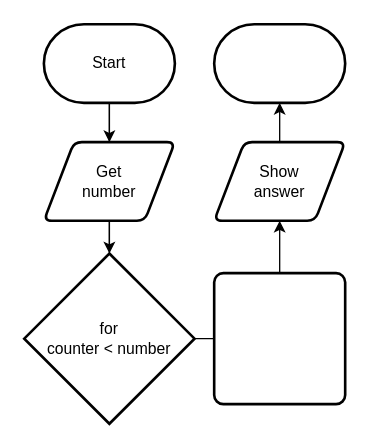
Some shapes in this 368 by 447 pixel diagram are drawn without their labels. The centre of each missing label's shape, as x and y in pixels:
answer += counter: (279,338)
Stop: (279,62)
